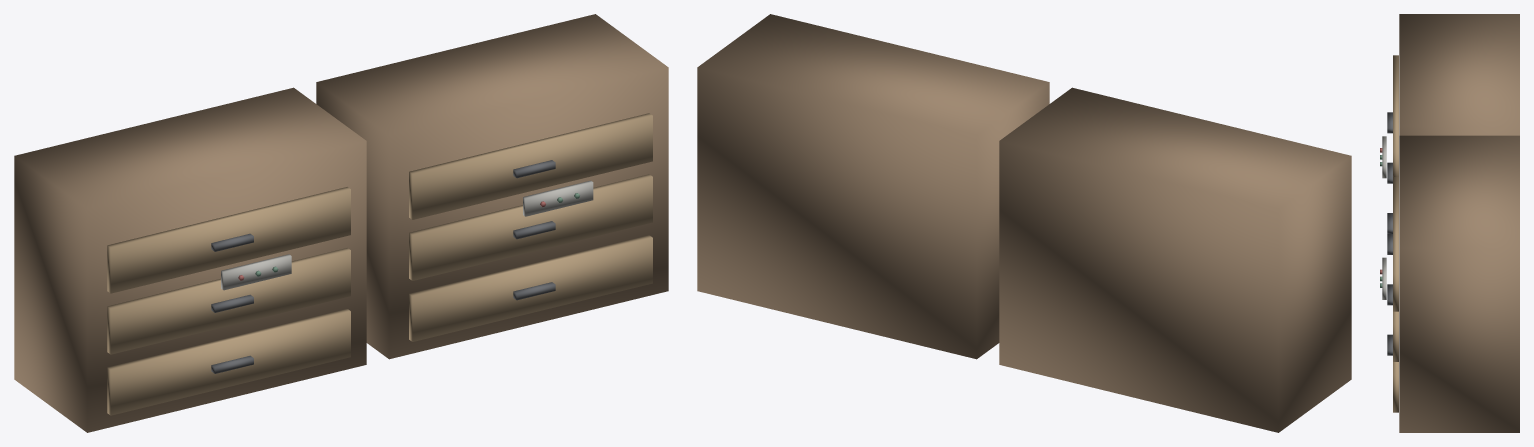
File: residential_dresser__cluster.glb
3 renders of one model, left to right at view 1: azimuth 30°, elevation 25°; view 2: azimuth 150°, elevation 25°; view 3: azimuth 270°, elevation 25°, orthographic. The views are drawn at different scales.
Parts seen in each view (by area): view 1: world; view 2: world; view 3: world.
Part boxes in pixels (<box>): world: <box>14,14,668,432</box>; world: <box>697,14,1351,432</box>; world: <box>1380,14,1519,432</box>.
Bounding box in the file's own units: 2.39 × 0.88 × 0.6035.
